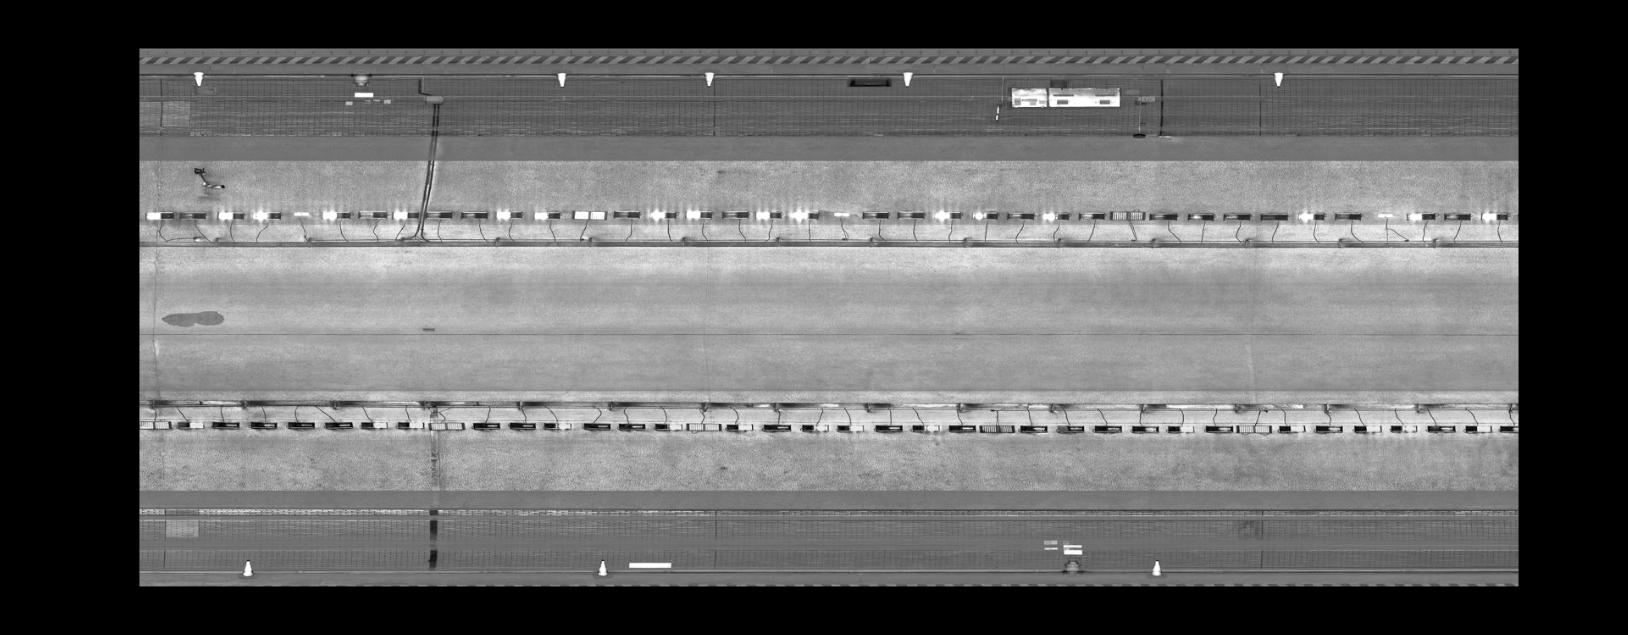light: (569, 206, 610, 223), (425, 417, 468, 433), (1108, 208, 1147, 223), (491, 206, 525, 223), (788, 206, 822, 223), (528, 206, 562, 223), (249, 208, 283, 223), (140, 417, 174, 433), (1233, 421, 1273, 435), (975, 421, 1017, 434), (1403, 208, 1439, 222), (647, 206, 680, 222), (1145, 209, 1181, 223), (1183, 209, 1218, 223), (1221, 209, 1255, 223), (1330, 209, 1364, 223), (1274, 421, 1310, 435), (1478, 208, 1510, 223), (751, 208, 784, 222), (1257, 209, 1291, 223), (1294, 209, 1327, 223), (684, 420, 723, 433), (610, 206, 643, 221), (718, 206, 751, 221), (1039, 209, 1071, 223), (1075, 208, 1107, 222), (723, 419, 757, 433), (932, 208, 964, 222), (389, 206, 423, 220), (1054, 422, 1087, 436), (1091, 421, 1124, 435), (1163, 421, 1196, 435), (319, 208, 354, 220), (354, 206, 389, 219), (172, 417, 208, 430), (505, 419, 540, 432), (540, 419, 575, 432), (1462, 422, 1497, 435), (859, 208, 891, 221), (895, 208, 927, 221), (1442, 210, 1474, 223), (142, 209, 177, 221), (457, 208, 491, 220), (469, 419, 504, 432), (580, 419, 615, 432), (760, 420, 794, 433), (1350, 421, 1384, 434), (1424, 422, 1459, 435), (969, 208, 1000, 221), (214, 209, 247, 221), (322, 418, 355, 431), (358, 418, 391, 431), (798, 420, 832, 433), (684, 208, 714, 221), (283, 418, 319, 430), (907, 421, 943, 433), (175, 209, 208, 221), (1005, 209, 1037, 221), (1202, 422, 1234, 435), (423, 209, 457, 220), (208, 418, 242, 430), (1129, 422, 1160, 435), (247, 418, 280, 430), (1387, 422, 1420, 434), (1313, 422, 1344, 435), (394, 418, 426, 430), (616, 420, 648, 432), (652, 420, 684, 432), (833, 422, 867, 433), (872, 422, 906, 433), (1017, 422, 1052, 433), (945, 422, 978, 433), (1498, 421, 1518, 433), (1374, 210, 1398, 219), (289, 208, 313, 215), (831, 210, 852, 217)
